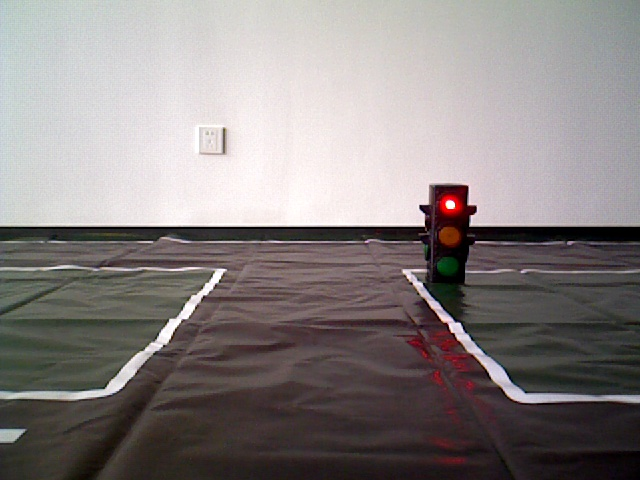red: (430, 187, 467, 278)
